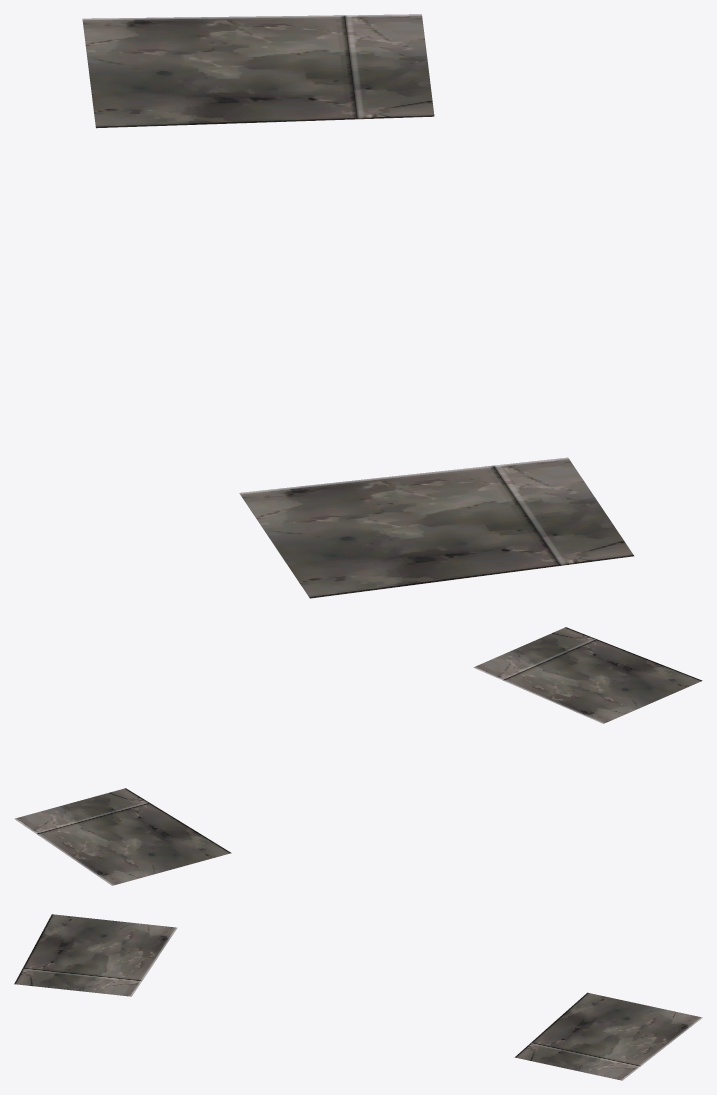
File: CH09_SMAUG_PLAYSURFACE_LAIR149.fbx
The picture shows the model from 3 angles, top to bottom: view 1: azimuth 30°, elevation 25°; view 2: azimuth 150°, elevation 25°; view 3: azimuth 270°, elevation 25°; orthographic projection. The views are drawn at different scales.
Visible parts, largest first — view 1: CH09_SMAUG_PLAYSURFACE_LAIR149; view 2: CH09_SMAUG_PLAYSURFACE_LAIR149; view 3: CH09_SMAUG_PLAYSURFACE_LAIR149.
Boxes of the visible parts, x1=… form: CH09_SMAUG_PLAYSURFACE_LAIR149: x1=82, y1=14, x2=634, y2=598; CH09_SMAUG_PLAYSURFACE_LAIR149: x1=14, y1=627, x2=702, y2=885; CH09_SMAUG_PLAYSURFACE_LAIR149: x1=14, y1=914, x2=702, y2=1080.
Bounding box in the file's own units: 25536 × 0.0132 × 44638.
Materials: 1 (1 with a texture image).
